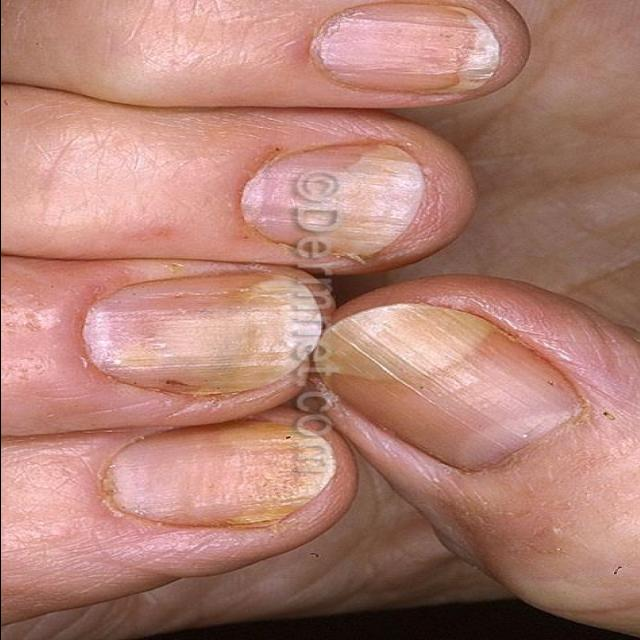Nail: (312, 303, 591, 468), (80, 270, 319, 397), (100, 417, 331, 528), (240, 141, 421, 253), (309, 3, 502, 98)
